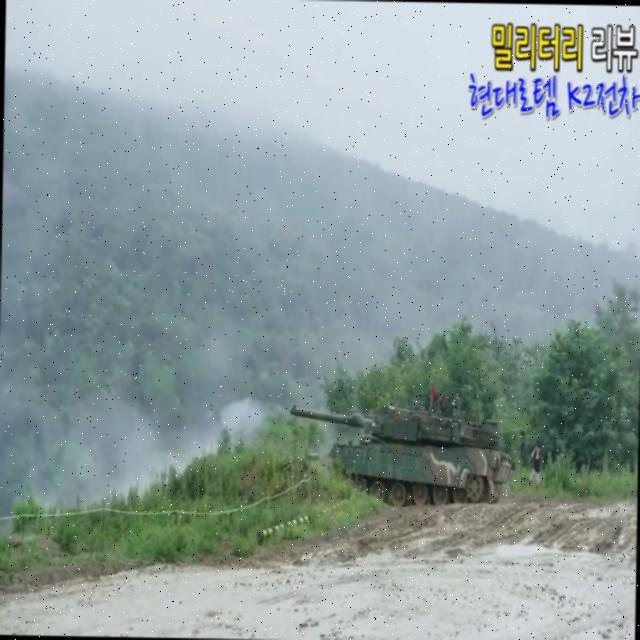korea tank: (287, 390, 514, 510)
